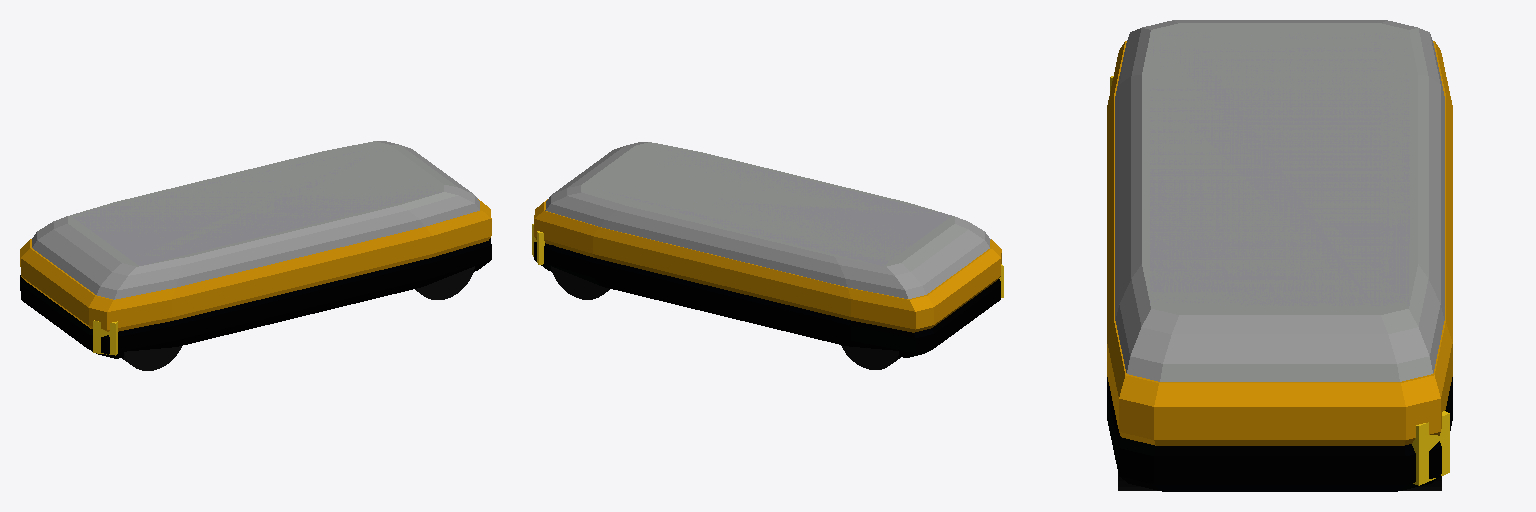
robot.urdf — kmp1500:
<?xml version="1.0"?>
<!-- Generated by wheel_cell/kmp1500_urdf.py from physical_data.py. Edit that script, not this file. -->
<!-- Source: KUKA KMP 1500 datasheet (EN, (c) 2022, read 2026-11-26) https://www.kuka.com/-/media/kuka-downloads/files/87f2706ce77c4318877932fb36f6002d/kuka_kmp1500_en.pdf?hash=90820FB7DA3F2999B45EFC28EF98A626&amp;rev=c434eb6522c4445e8b65c5e1fdde221c -->
<!-- Datasheet: size, masses, lift stroke/speed, wheel diameter, speeds. ESTIMATE: wheel positions (build.py amr_housing), scanner and IMU positions, deck plate, clearance, wheel mass. -->
<robot name="kmp1500">
  <link name="base_link"/>
  <link name="chassis">
    <visual name="skirt"><origin xyz="0 0 -0.04"/><geometry><mesh filename="kmp1500_meshes/skirt.stl"/></geometry><material name="skirt"><color rgba="0.016 0.019 0.023 1"/></material></visual>
    <visual name="pan"><origin xyz="0 0 -0.04"/><geometry><mesh filename="kmp1500_meshes/pan.stl"/></geometry><material name="pan"><color rgba="0.85 0.6 0.039 1"/></material></visual>
    <visual name="upper_shell"><origin xyz="0 0 -0.04"/><geometry><mesh filename="kmp1500_meshes/upper_shell.stl"/></geometry><material name="upper_shell"><color rgba="0.61 0.615 0.61 1"/></material></visual>
    <visual name="status_bar"><origin xyz="-0.9504 -0.224 0.298"/><geometry><box size="0.024 0.123 0.039"/></geometry><material name="status"><color rgba="0.03 0.43 0.76 1"/></material></visual>
    <visual name="status_bar"><origin xyz="-0.9504 0.224 0.298"/><geometry><box size="0.024 0.123 0.039"/></geometry><material name="status"><color rgba="0.03 0.43 0.76 1"/></material></visual>
    <visual name="status_bar"><origin xyz="0.9504 -0.224 0.298"/><geometry><box size="0.024 0.123 0.039"/></geometry><material name="status"><color rgba="0.03 0.43 0.76 1"/></material></visual>
    <visual name="status_bar"><origin xyz="0.9504 0.224 0.298"/><geometry><box size="0.024 0.123 0.039"/></geometry><material name="status"><color rgba="0.03 0.43 0.76 1"/></material></visual>
    <collision><origin xyz="0 0 0.2000"/><geometry><box size="2.0 0.8 0.400"/></geometry></collision>
    <inertial><origin xyz="0 0 0.2000"/><mass value="631.0"/><inertia ixx="42.0667" ixy="0" ixz="0" iyy="218.7467" iyz="0" izz="243.9867"/></inertial>
  </link>
  <joint name="chassis_joint" type="fixed">
    <parent link="base_link"/><child link="chassis"/><origin xyz="0 0 0.04"/>
  </joint>
  <link name="lift_table">
    <visual><origin xyz="0 0 0.0150"/><geometry><box size="1.5 0.6 0.03"/></geometry><material name="lift_table_mat"><color rgba="0.6 0.6 0.62 1"/></material></visual>
    <collision><origin xyz="0 0 0.0150"/><geometry><box size="1.5 0.6 0.03"/></geometry></collision>
    <inertial><origin xyz="0 0 0.0150"/><mass value="144.0"/><inertia ixx="4.3308" ixy="0" ixz="0" iyy="27.0108" iyz="0" izz="31.3200"/></inertial>
  </link>
  <joint name="lift_joint" type="prismatic">
    <parent link="base_link"/><child link="lift_table"/>
    <origin xyz="0 0 0.43999999999999995"/><axis xyz="0 0 1"/>
    <limit lower="0" upper="0.2" velocity="0.05" effort="24191"/>
  </joint>
  <link name="front_left_wheel">
    <visual><origin rpy="1.5708 0 0"/><geometry><cylinder radius="0.155" length="0.132"/></geometry><material name="rubber"><color rgba="0.08 0.08 0.08 1"/></material></visual>
    <collision><origin rpy="1.5708 0 0"/><geometry><cylinder radius="0.155" length="0.132"/></geometry></collision>
    <inertial><mass value="20.0"/><inertia ixx="0.1492" ixy="0" ixz="0" iyy="0.2402" iyz="0" izz="0.1492"/></inertial>
  </link>
  <joint name="front_left_wheel_joint" type="continuous">
    <parent link="base_link"/><child link="front_left_wheel"/>
    <origin xyz="0.72 0.31 0.155"/><axis xyz="0 1 0"/>
  </joint>
  <link name="front_right_wheel">
    <visual><origin rpy="1.5708 0 0"/><geometry><cylinder radius="0.155" length="0.132"/></geometry><material name="rubber"><color rgba="0.08 0.08 0.08 1"/></material></visual>
    <collision><origin rpy="1.5708 0 0"/><geometry><cylinder radius="0.155" length="0.132"/></geometry></collision>
    <inertial><mass value="20.0"/><inertia ixx="0.1492" ixy="0" ixz="0" iyy="0.2402" iyz="0" izz="0.1492"/></inertial>
  </link>
  <joint name="front_right_wheel_joint" type="continuous">
    <parent link="base_link"/><child link="front_right_wheel"/>
    <origin xyz="0.72 -0.31 0.155"/><axis xyz="0 1 0"/>
  </joint>
  <link name="rear_left_wheel">
    <visual><origin rpy="1.5708 0 0"/><geometry><cylinder radius="0.155" length="0.132"/></geometry><material name="rubber"><color rgba="0.08 0.08 0.08 1"/></material></visual>
    <collision><origin rpy="1.5708 0 0"/><geometry><cylinder radius="0.155" length="0.132"/></geometry></collision>
    <inertial><mass value="20.0"/><inertia ixx="0.1492" ixy="0" ixz="0" iyy="0.2402" iyz="0" izz="0.1492"/></inertial>
  </link>
  <joint name="rear_left_wheel_joint" type="continuous">
    <parent link="base_link"/><child link="rear_left_wheel"/>
    <origin xyz="-0.72 0.31 0.155"/><axis xyz="0 1 0"/>
  </joint>
  <link name="rear_right_wheel">
    <visual><origin rpy="1.5708 0 0"/><geometry><cylinder radius="0.155" length="0.132"/></geometry><material name="rubber"><color rgba="0.08 0.08 0.08 1"/></material></visual>
    <collision><origin rpy="1.5708 0 0"/><geometry><cylinder radius="0.155" length="0.132"/></geometry></collision>
    <inertial><mass value="20.0"/><inertia ixx="0.1492" ixy="0" ixz="0" iyy="0.2402" iyz="0" izz="0.1492"/></inertial>
  </link>
  <joint name="rear_right_wheel_joint" type="continuous">
    <parent link="base_link"/><child link="rear_right_wheel"/>
    <origin xyz="-0.72 -0.31 0.155"/><axis xyz="0 1 0"/>
  </joint>
  <link name="laser_front_left">
    <visual><geometry><box size="0.106 0.102 0.152"/></geometry><material name="s300"><color rgba="0.95 0.8 0.1 1"/></material></visual>
    <inertial><mass value="1.2"/><inertia ixx="0.0034" ixy="0" ixz="0" iyy="0.0034" iyz="0" izz="0.0022"/></inertial>
  </link>
  <joint name="laser_front_left_joint" type="fixed">
    <parent link="base_link"/><child link="laser_front_left"/>
    <origin xyz="0.92 0.32 0.2" rpy="0 0 0.785398"/>
  </joint>
  <link name="laser_rear_right">
    <visual><geometry><box size="0.106 0.102 0.152"/></geometry><material name="s300"><color rgba="0.95 0.8 0.1 1"/></material></visual>
    <inertial><mass value="1.2"/><inertia ixx="0.0034" ixy="0" ixz="0" iyy="0.0034" iyz="0" izz="0.0022"/></inertial>
  </link>
  <joint name="laser_rear_right_joint" type="fixed">
    <parent link="base_link"/><child link="laser_rear_right"/>
    <origin xyz="-0.92 -0.32 0.2" rpy="0 0 -2.356194"/>
  </joint>
  <link name="imu_link"/>
  <joint name="imu_joint" type="fixed">
    <parent link="base_link"/><child link="imu_link"/>
    <origin xyz="0.0 0.0 0.25"/>
  </joint>
  <!-- laser_*: SICK S300, 270 deg, 0.5 deg, 80 ms, 30 m (https://www.sick.com/media/pdf/5/45/845/dataSheet_S30B-2011BA_1026820_en.pdf) -->
  <!-- omniMove: max 1.0 m/s straight, 0.56 m/s sideways (holonomic) -->
</robot>

--- What the picture shows (computed from the rendered views, not written in the file) ---
The picture shows the robot from 3 angles, left to right: view 1: azimuth 30°, elevation 25°; view 2: azimuth 150°, elevation 25°; view 3: azimuth 270°, elevation 25°; orthographic projection.
Model kmp1500 with 10 links and 9 joints (4 continuous, 1 prismatic, 4 fixed), rooted at base_link, posed every joint at zero.
Visible links, largest first — view 1: chassis, lift_table, rear_right_wheel, front_right_wheel, laser_rear_right; view 2: chassis, lift_table, rear_left_wheel, front_left_wheel; view 3: chassis, lift_table, laser_front_left.
Link boxes in pixels (bbox=[...]): chassis: bbox=[20, 141, 491, 358]; lift_table: bbox=[70, 148, 441, 265]; rear_right_wheel: bbox=[122, 346, 181, 370]; front_right_wheel: bbox=[415, 266, 474, 299]; laser_rear_right: bbox=[93, 320, 117, 355]; chassis: bbox=[534, 142, 1001, 357]; lift_table: bbox=[597, 150, 951, 265]; rear_left_wheel: bbox=[841, 329, 900, 369]; front_left_wheel: bbox=[551, 245, 609, 299]; chassis: bbox=[1107, 20, 1452, 491]; lift_table: bbox=[1150, 32, 1409, 305]; laser_front_left: bbox=[1412, 411, 1449, 485].
Size in the robot's own frame: 2 by 0.8 by 0.47 metres.
Meshes: 3 distinct files referenced, 3 mesh visuals loaded (3 binary STL).
